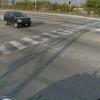Crosswalk: (5, 29, 78, 55)
